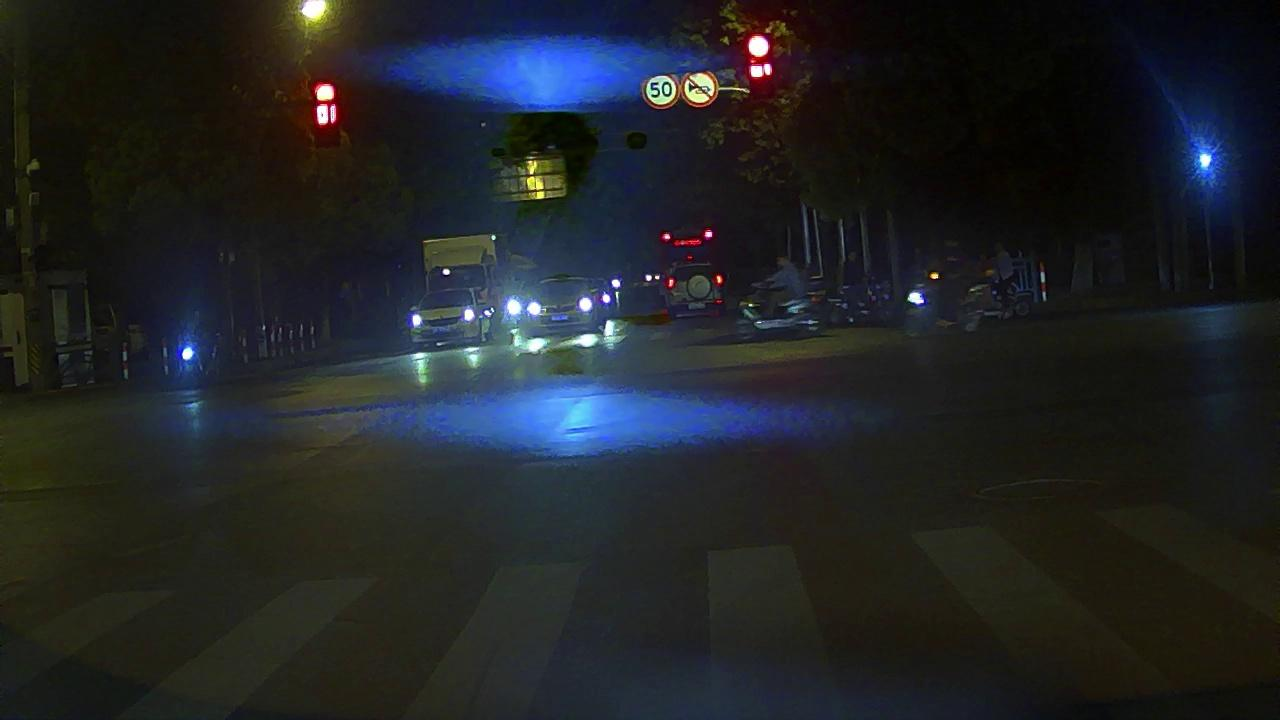traffic_light: (310, 78, 341, 132), (746, 29, 774, 87)
